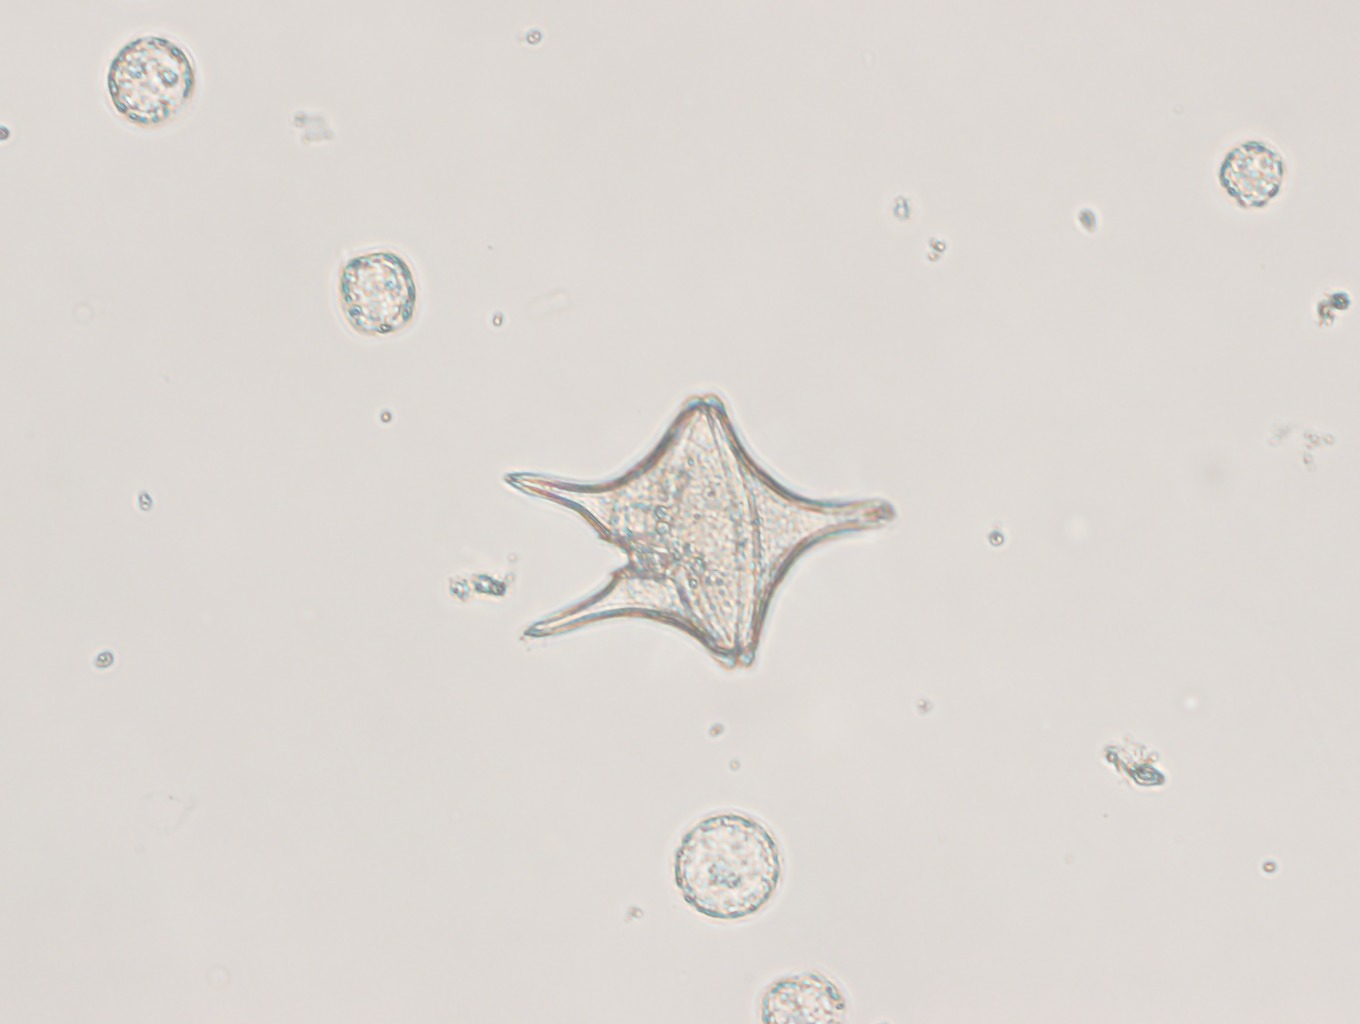protoperidinium: (502, 386, 896, 669)
